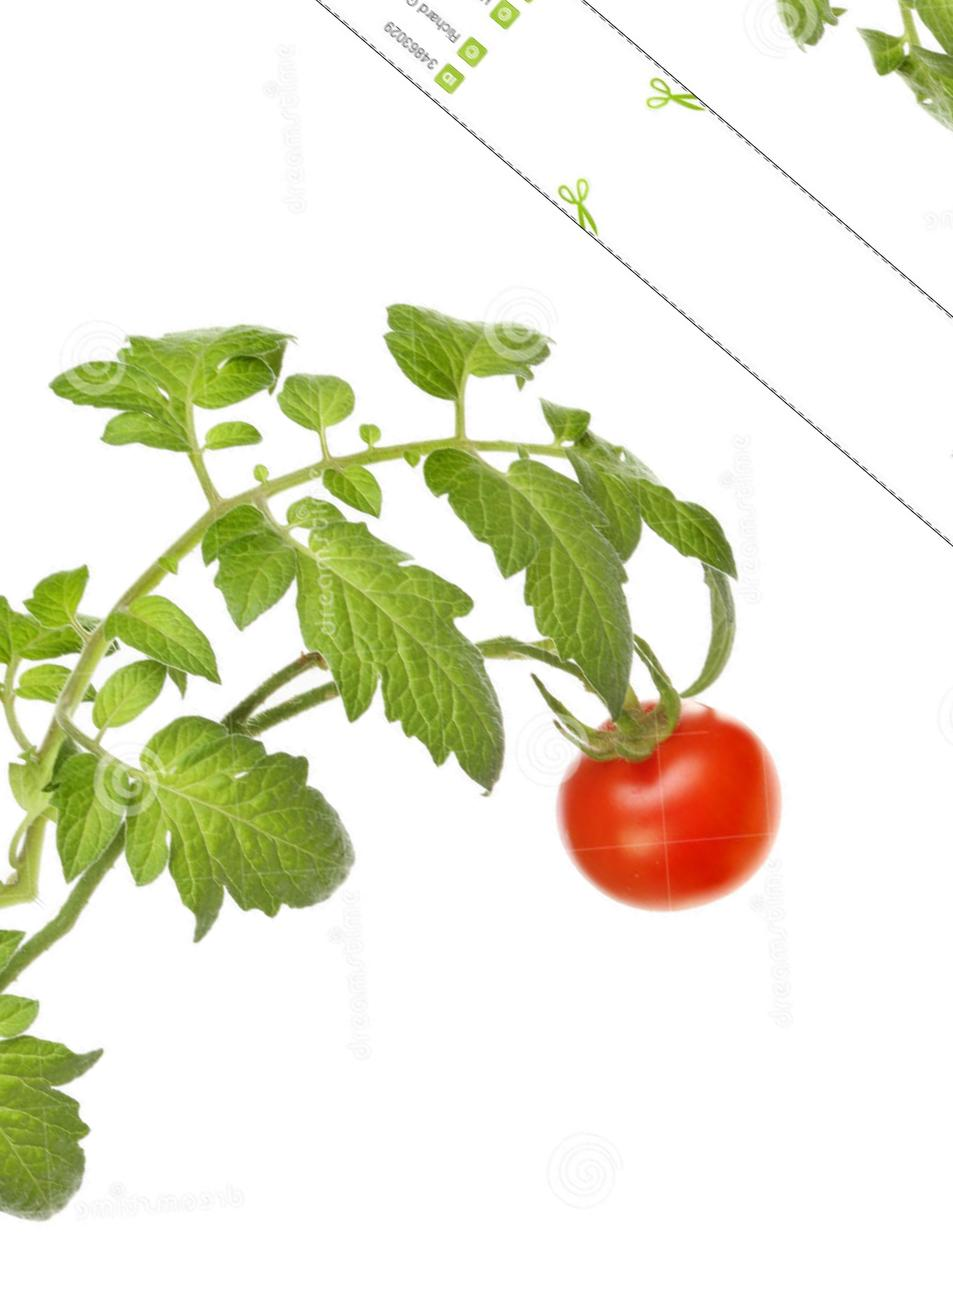Tomato leaf: (141, 404, 605, 842), (339, 333, 789, 756), (33, 641, 437, 1037), (89, 562, 250, 717)
